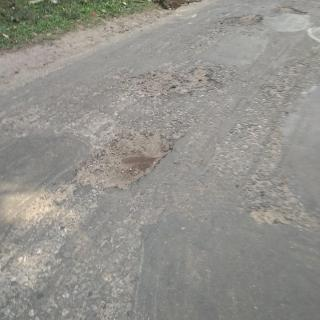pothole: (75, 133, 172, 194), (129, 67, 219, 94)
